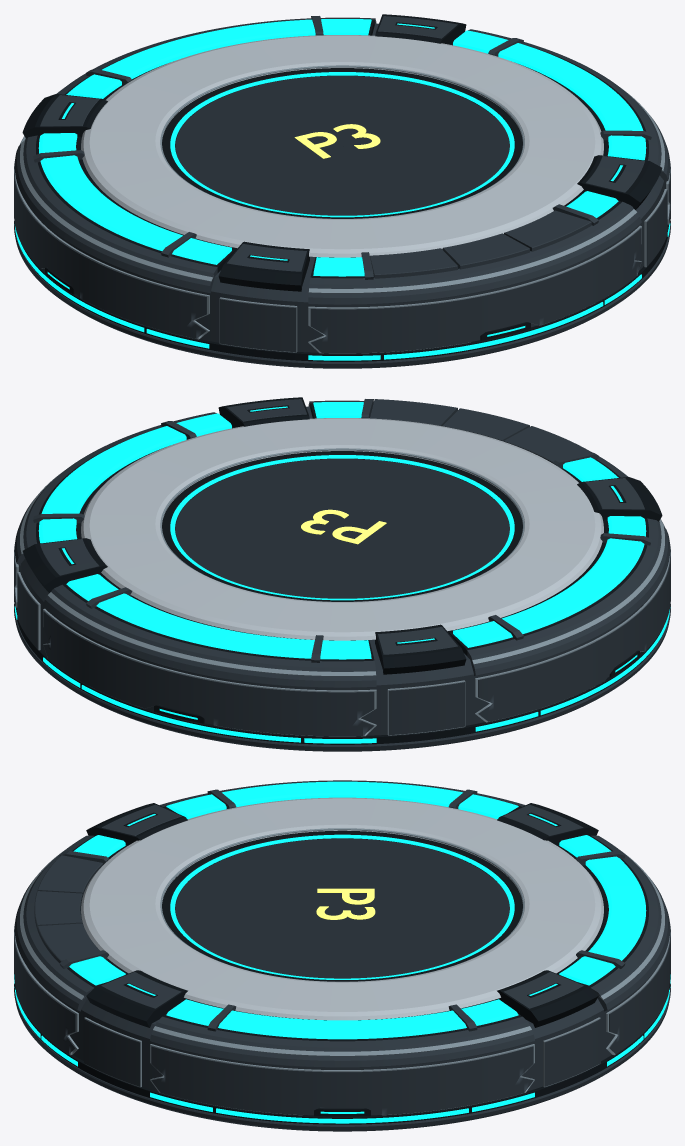
The model's file is Blocker.fbx.
3 views of the same model, one above another, from view 1: azimuth 30°, elevation 25°; view 2: azimuth 150°, elevation 25°; view 3: azimuth 270°, elevation 25° (orthographic).
Visible parts, largest first — view 1: SM_Puck_Blocker_P3_HighDetail; view 2: SM_Puck_Blocker_P3_HighDetail; view 3: SM_Puck_Blocker_P3_HighDetail.
Part boxes in pixels (bbox=[...]): SM_Puck_Blocker_P3_HighDetail: bbox=[14, 14, 670, 368]; SM_Puck_Blocker_P3_HighDetail: bbox=[14, 397, 670, 751]; SM_Puck_Blocker_P3_HighDetail: bbox=[14, 780, 670, 1131].
Size of the model in its own units: 106 by 106 by 16.5.
